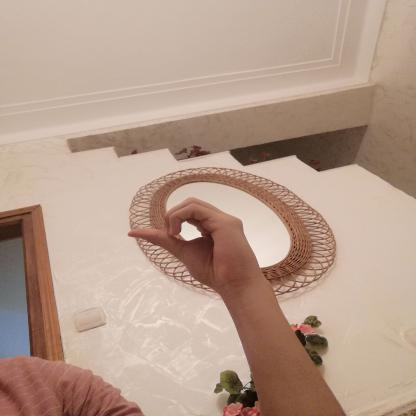WAW: (118, 190, 266, 296)
